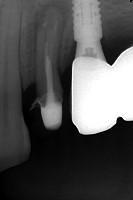Dental Caries: (25, 0, 72, 85)
